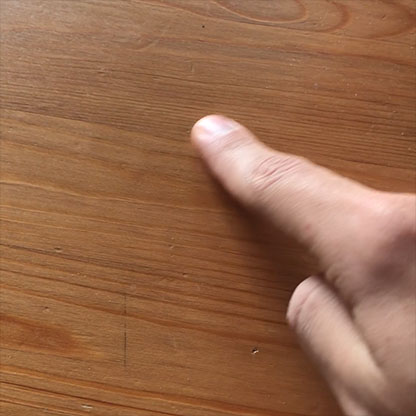fingertip: (182, 107, 251, 153)
